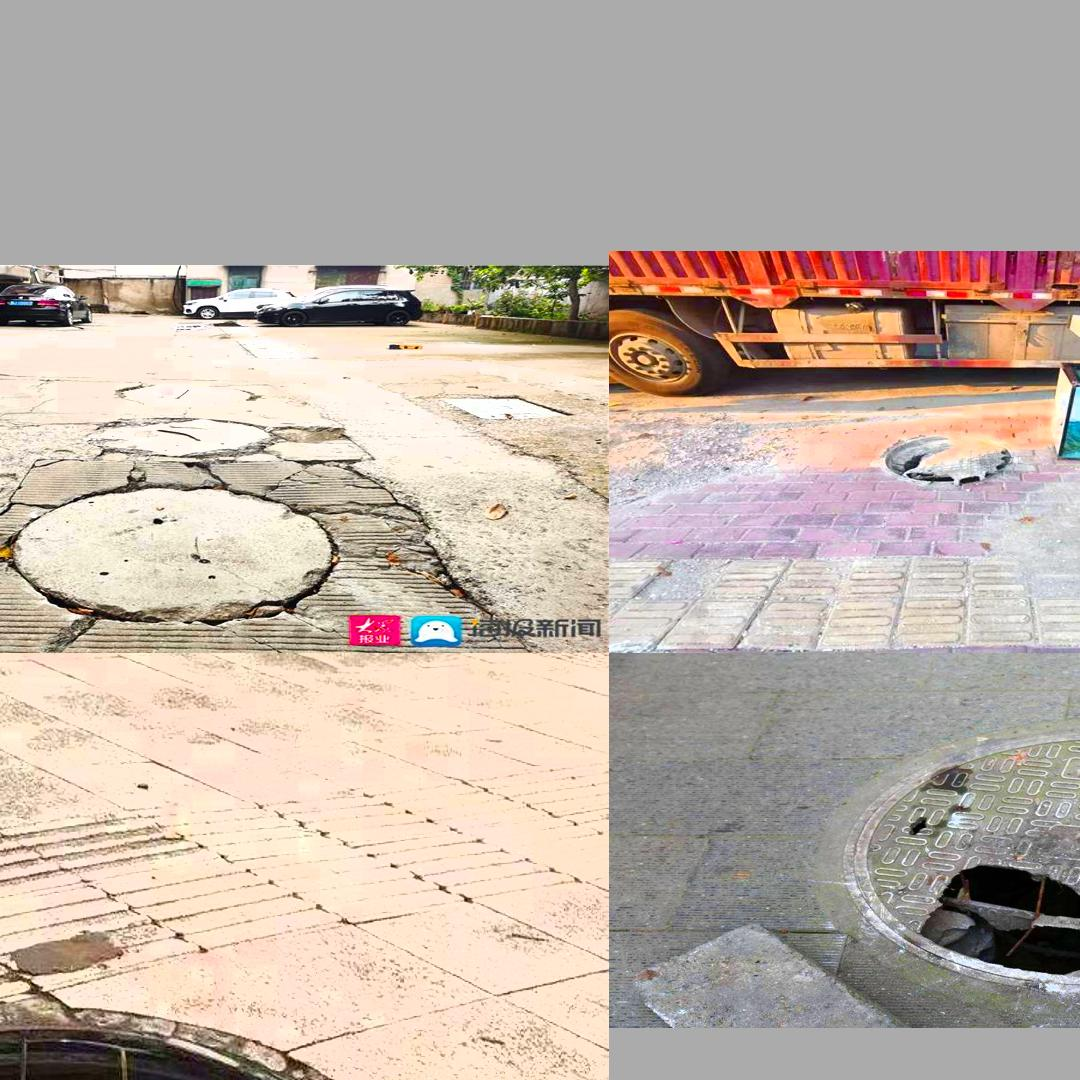broke: (0, 439, 450, 640), (841, 726, 1080, 986), (0, 1018, 397, 1080), (865, 421, 1035, 504)
